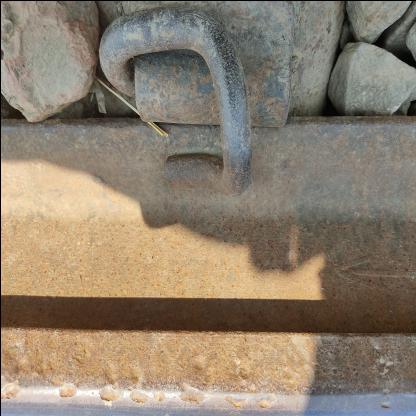Non Defective 1: (72, 0, 310, 214)
